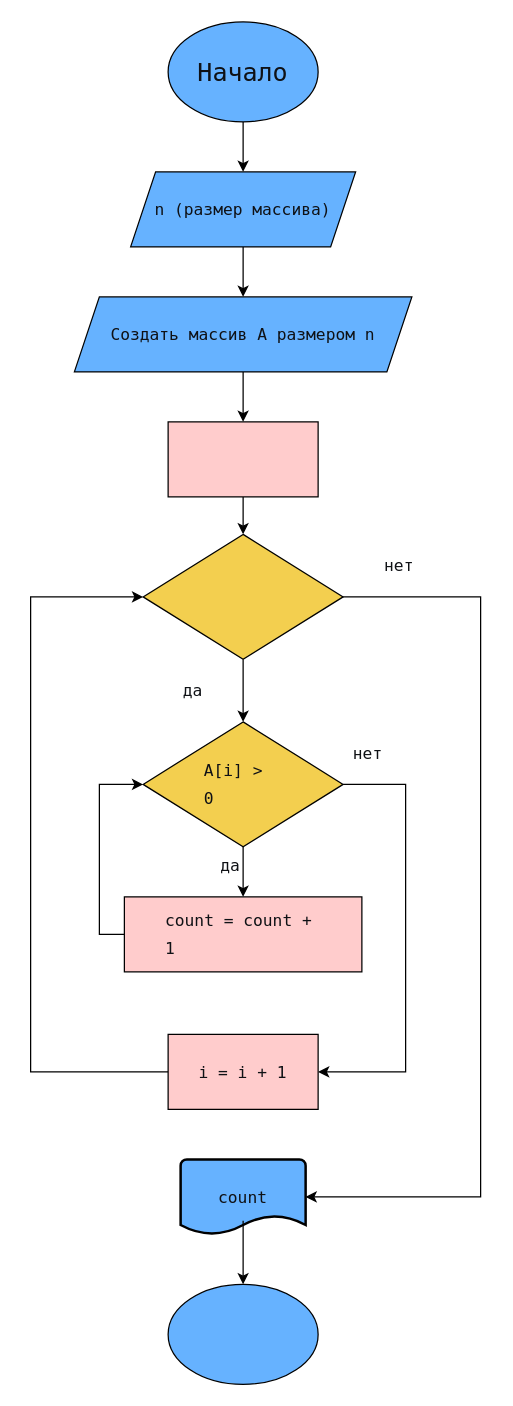
Image size: 513x1406. Some labels were removed from this diagram. The centre of each missing label's shape, as x and y in pixels:
"i < n" goes at (x=242, y=596).
"i = 0 count = 0" goes at (x=242, y=459).
"Конец" goes at (x=242, y=1333).
